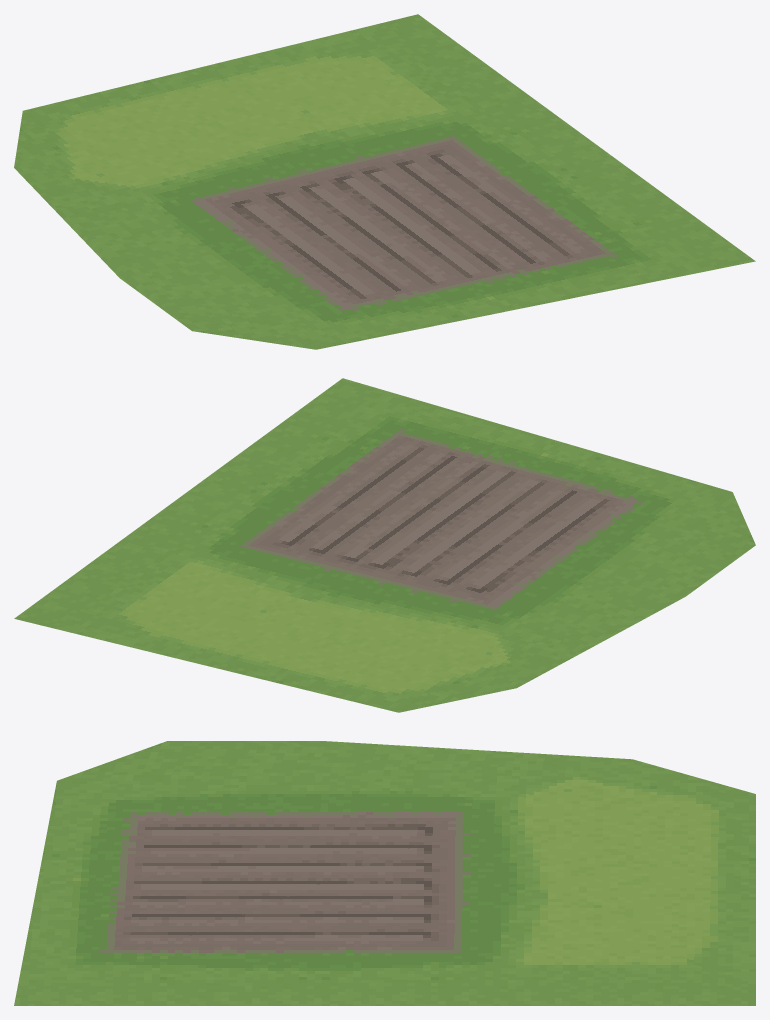
File: kd_stage_1366d7_0_1_bounded.glb
The picture shows the model from 3 angles, top to bottom: view 1: azimuth 30°, elevation 25°; view 2: azimuth 150°, elevation 25°; view 3: azimuth 270°, elevation 25°; orthographic projection. The views are drawn at different scales.
Visible parts, largest first — view 1: kd_stage_1366d7_0_1_bounded; view 2: kd_stage_1366d7_0_1_bounded; view 3: kd_stage_1366d7_0_1_bounded.
Boxes of the visible parts, <box> form: kd_stage_1366d7_0_1_bounded: <box>14,14,755,349</box>; kd_stage_1366d7_0_1_bounded: <box>14,378,755,712</box>; kd_stage_1366d7_0_1_bounded: <box>14,741,755,1005</box>.
Bounding box in the file's own units: 16.99 × 0.00448 × 20.11.
Materials: 1 (1 with a texture image).
